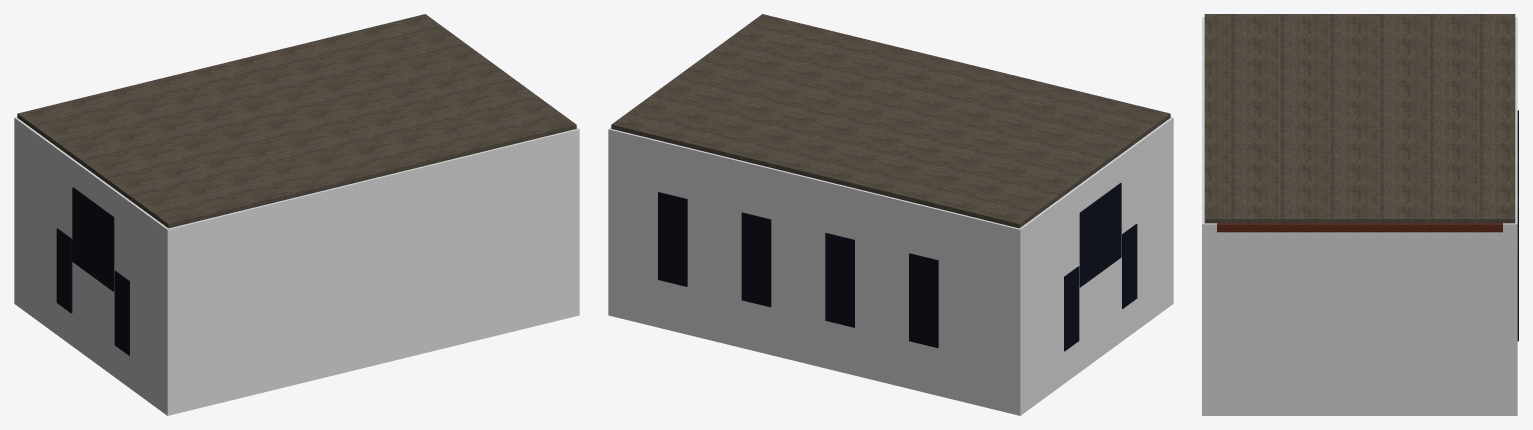
File: chapel.glb
3 renders of one model, left to right at view 1: azimuth 30°, elevation 25°; view 2: azimuth 150°, elevation 25°; view 3: azimuth 270°, elevation 25°, orthographic. The views are drawn at different scales.
Visible parts, largest first — view 1: wall_back, ceiling, aisle_runner; view 2: wall_back, ceiling, aisle_runner; view 3: ceiling, wall_back, beam, aisle_runner.
Part boxes in pixels (box(x1,y1,x2,y2)): wall_back: box(14, 117, 579, 415); ceiling: box(17, 14, 576, 228); aisle_runner: box(56, 187, 129, 355); wall_back: box(608, 117, 1173, 415); ceiling: box(611, 14, 1170, 228); aisle_runner: box(658, 183, 1137, 351); ceiling: box(1204, 14, 1515, 223); wall_back: box(1202, 17, 1517, 415); beam: box(1217, 223, 1502, 232); aisle_runner: box(1517, 110, 1518, 341).
Bounding box in the file's own units: 19.77 × 8.9 × 12.74.
18 materials, 17 textured.
